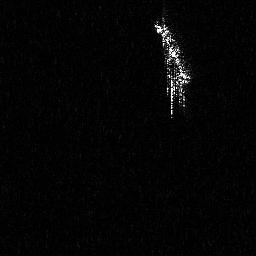ship: (153, 15, 194, 121)
